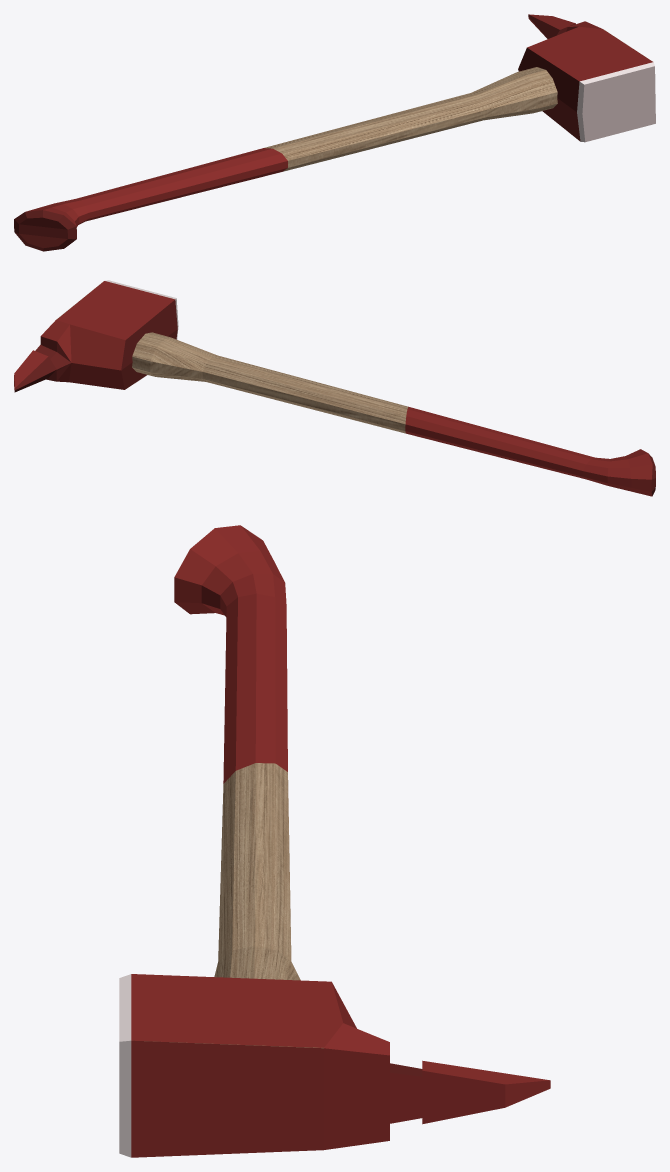
Rendered from WorldItem_EntryTool.fbx.
3 views of the same model, one above another, from view 1: azimuth 30°, elevation 25°; view 2: azimuth 150°, elevation 25°; view 3: azimuth 270°, elevation 25° (orthographic). The views are drawn at different scales.
Parts seen in each view (by area): view 1: ZomboidEntryTool; view 2: ZomboidEntryTool; view 3: ZomboidEntryTool.
Part boxes in pixels (<box>): ZomboidEntryTool: <box>14,14,655,251</box>; ZomboidEntryTool: <box>14,280,655,496</box>; ZomboidEntryTool: <box>119,525,550,1157</box>.
Bounding box in the file's own units: 0.6081 × 0.0594 × 0.1952.
